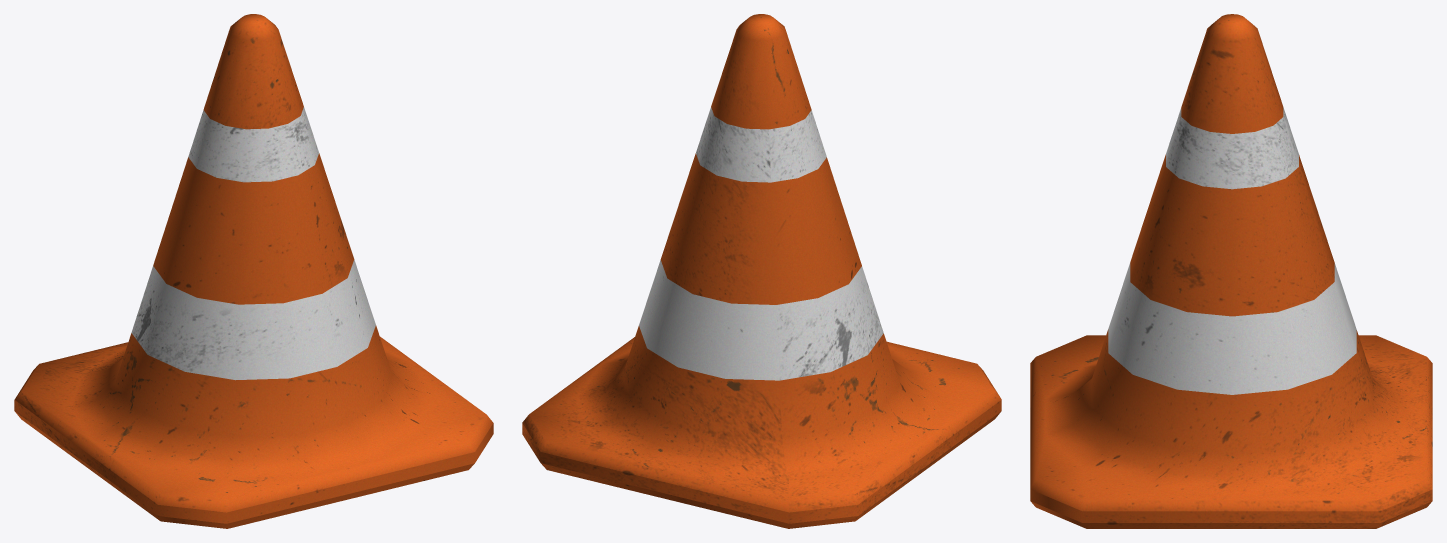
3 views of the same model, side by side, from view 1: azimuth 30°, elevation 25°; view 2: azimuth 150°, elevation 25°; view 3: azimuth 270°, elevation 25° (orthographic). The views are drawn at different scales.
Parts seen in each view (by area): view 1: cone2; view 2: cone2; view 3: cone2.
Boxes of the visible parts, box(x1,y1,x2,y2) form: cone2: box(14, 14, 493, 528); cone2: box(522, 14, 1001, 528); cone2: box(1030, 14, 1432, 528).
Size of the model in its own units: 76.09 by 89.06 by 76.09.
Materials: 1 (1 with a texture image).
